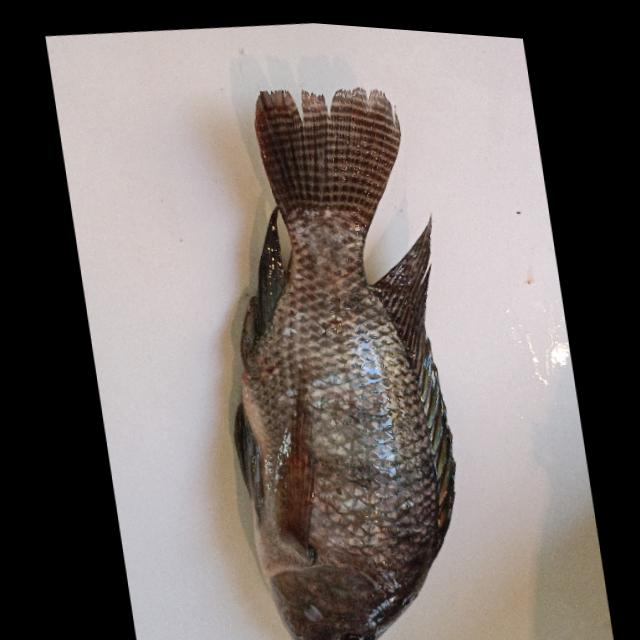Tilapia: (182, 64, 500, 640)
